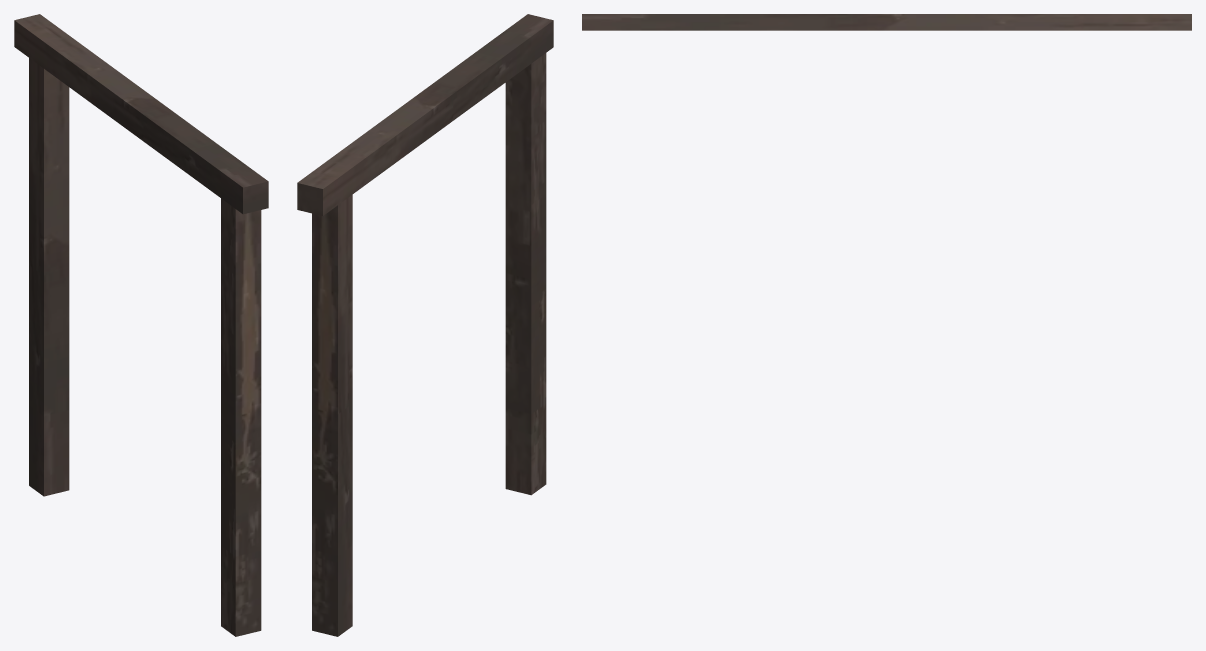
3 views of the same model, side by side, from view 1: azimuth 30°, elevation 25°; view 2: azimuth 150°, elevation 25°; view 3: azimuth 270°, elevation 25° (orthographic). The views are drawn at different scales.
Visible parts, largest first — view 1: body0_model0_lod0_mesh0; view 2: body0_model0_lod0_mesh0; view 3: body0_model0_lod0_mesh0.
Part boxes in pixels (x1,y1,x2,y2): body0_model0_lod0_mesh0: [14, 14, 268, 636]; body0_model0_lod0_mesh0: [297, 14, 553, 636]; body0_model0_lod0_mesh0: [582, 14, 1191, 30].
Bounding box in the file's own units: 8 × 136 × 124.
1 material, 1 textured.
